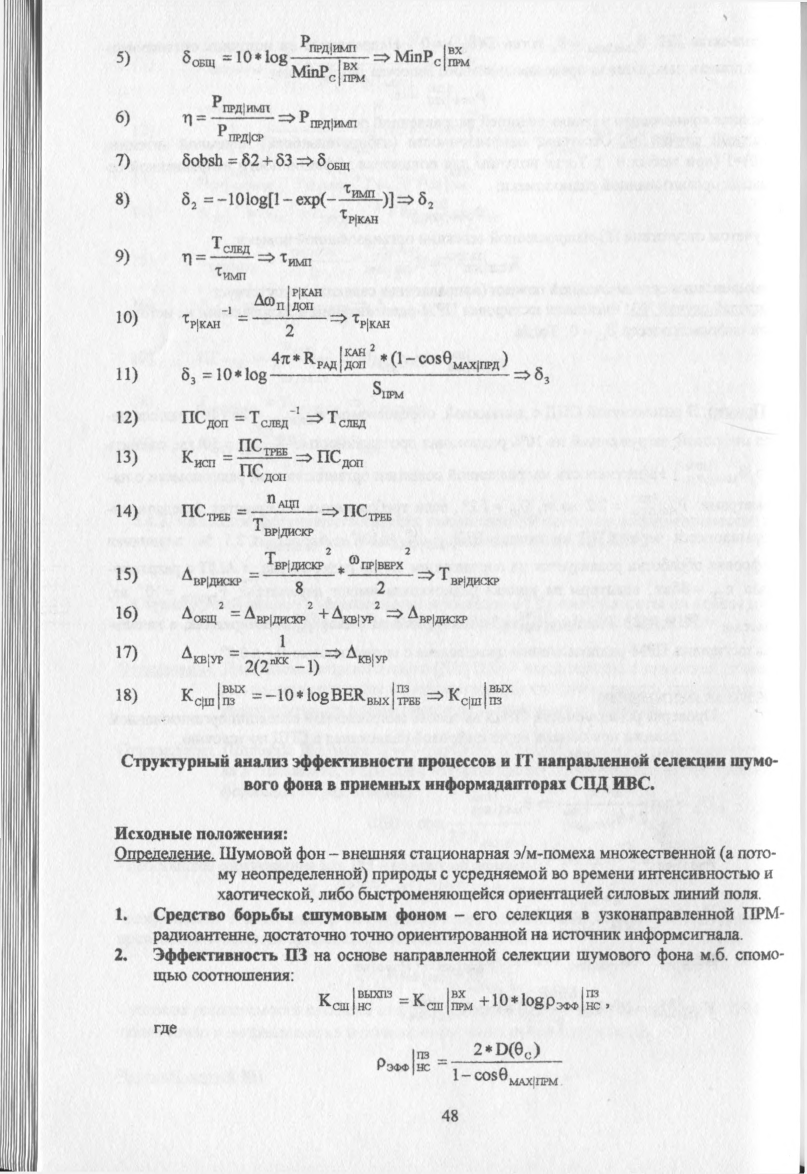BER.вых.пз.треб: (335, 678, 425, 710)
K.исп: (179, 445, 219, 468)
K.с.ш.вх.прм: (411, 985, 475, 1015)
K.с.ш.вых.пз: (179, 681, 245, 710)
K.с.ш.вых.пз.нс: (319, 990, 393, 1013)
P.прд.имп: (297, 29, 358, 54), (209, 91, 274, 114)
P.прд.ср: (213, 122, 265, 144)
P.с.вх.прм: (321, 58, 367, 85)
R.р.кан.доп: (303, 336, 367, 371)
S.прм: (367, 380, 412, 398)
T.вр.дискр: (251, 517, 316, 541), (264, 549, 328, 571)
T.след: (250, 404, 290, 432), (211, 233, 253, 255)
n.ацп: (263, 491, 302, 509)
n.кк: (270, 653, 290, 665)
Δ.вр.дискр: (177, 564, 243, 589), (242, 603, 305, 628)
Δ.кв.ур: (328, 603, 376, 627), (179, 642, 225, 666)
Δ.общ: (177, 606, 223, 626)
Δω.п.р.кан.доп: (248, 286, 329, 313)
δ.2: (179, 188, 197, 213), (240, 151, 261, 168)
δ.3: (175, 361, 197, 384), (277, 146, 291, 168)
δ.общ: (177, 47, 219, 74), (180, 152, 229, 168)
η: (179, 107, 194, 134), (181, 247, 195, 271)
θ.max.прд: (442, 347, 503, 372)
θ.max.прм: (501, 1066, 557, 1090)
θ.с: (513, 1036, 534, 1060)
ρ.эф.пз.нс: (368, 1044, 433, 1079), (545, 980, 601, 1015)
τ.имп: (215, 264, 250, 281), (341, 180, 377, 196)
τ.р.кан: (181, 307, 221, 333), (338, 205, 380, 227)
ω.пр.верх: (349, 549, 406, 573)
ПС.доп: (174, 404, 230, 435), (238, 463, 291, 485)
ПС.треб: (175, 500, 234, 525), (235, 436, 290, 456)
